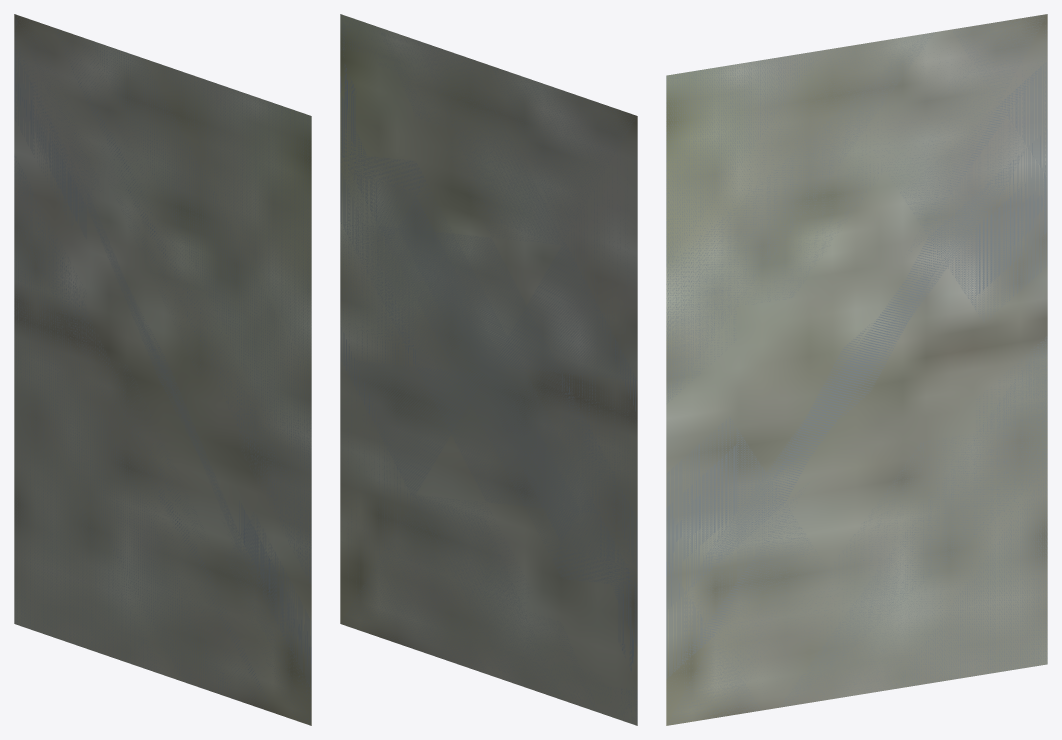
File: 西庸城堡447.dae
3 renders of one model, left to right at view 1: azimuth 30°, elevation 25°; view 2: azimuth 210°, elevation 25°; view 3: azimuth 270°, elevation 25°, orthographic. The views are drawn at different scales.
Parts seen in each view (by area): view 1: SketchUp; view 2: SketchUp; view 3: SketchUp.
Part boxes in pixels (bbox=[...]): SketchUp: bbox=[14, 14, 311, 725]; SketchUp: bbox=[340, 14, 637, 725]; SketchUp: bbox=[666, 14, 1047, 725].
Bounding box in the file's own units: 10.55 × 27.62 × 51.97.
